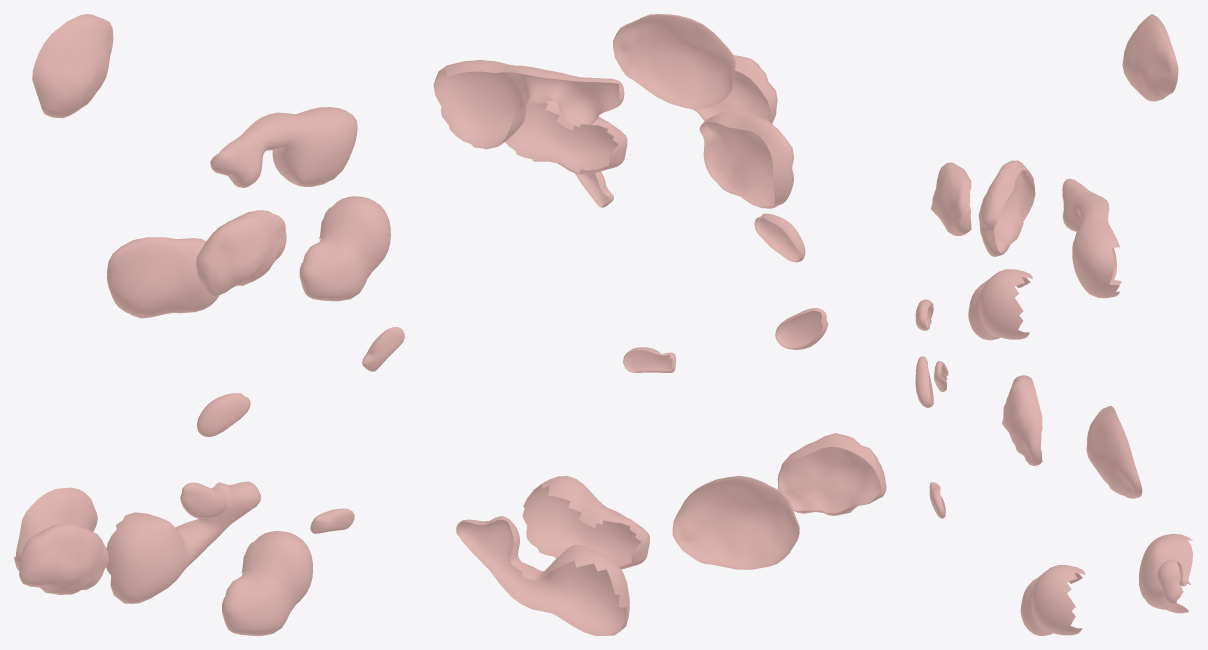
Rendered from clouds3.glb.
3 renders of one model, left to right at view 1: azimuth 30°, elevation 25°; view 2: azimuth 150°, elevation 25°; view 3: azimuth 270°, elevation 25°, orthographic. The views are drawn at different scales.
Parts seen in each view (by area): view 1: oneCloud.007, oneCloud.002, oneCloud.003, oneCloud.001; view 2: oneCloud.007, oneCloud.003, oneCloud.001, oneCloud.002; view 3: oneCloud.007, oneCloud.002, oneCloud.003, oneCloud.001.
Part boxes in pixels (bbox=[...]): oneCloud.007: bbox=[32, 14, 286, 436]; oneCloud.002: bbox=[210, 107, 404, 371]; oneCloud.003: bbox=[106, 481, 354, 635]; oneCloud.001: bbox=[14, 482, 226, 594]; oneCloud.007: bbox=[613, 14, 805, 262]; oneCloud.003: bbox=[456, 347, 675, 635]; oneCloud.001: bbox=[672, 308, 886, 569]; oneCloud.002: bbox=[433, 60, 627, 207]; oneCloud.007: bbox=[915, 14, 1178, 330]; oneCloud.002: bbox=[934, 178, 1121, 391]; oneCloud.003: bbox=[929, 482, 1192, 635]; oneCloud.001: bbox=[915, 356, 1142, 498].
Size of the model in its own units: 3.35 by 5.06 by 2.29.
Materials: 2 (2 with a texture image).
